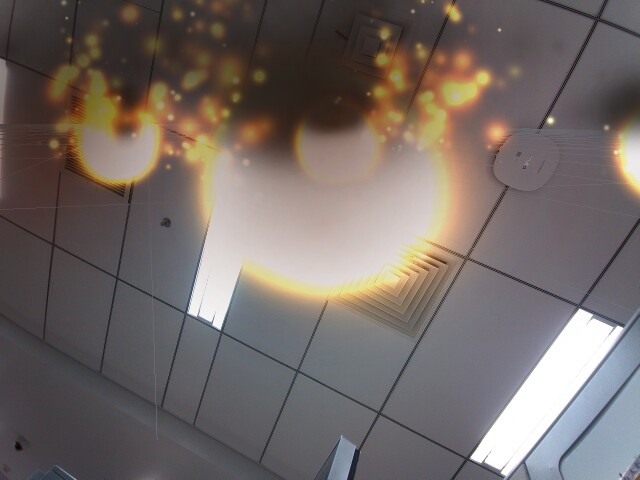fire: (211, 108, 464, 303), (286, 99, 383, 184), (72, 106, 167, 192), (613, 108, 640, 203)
